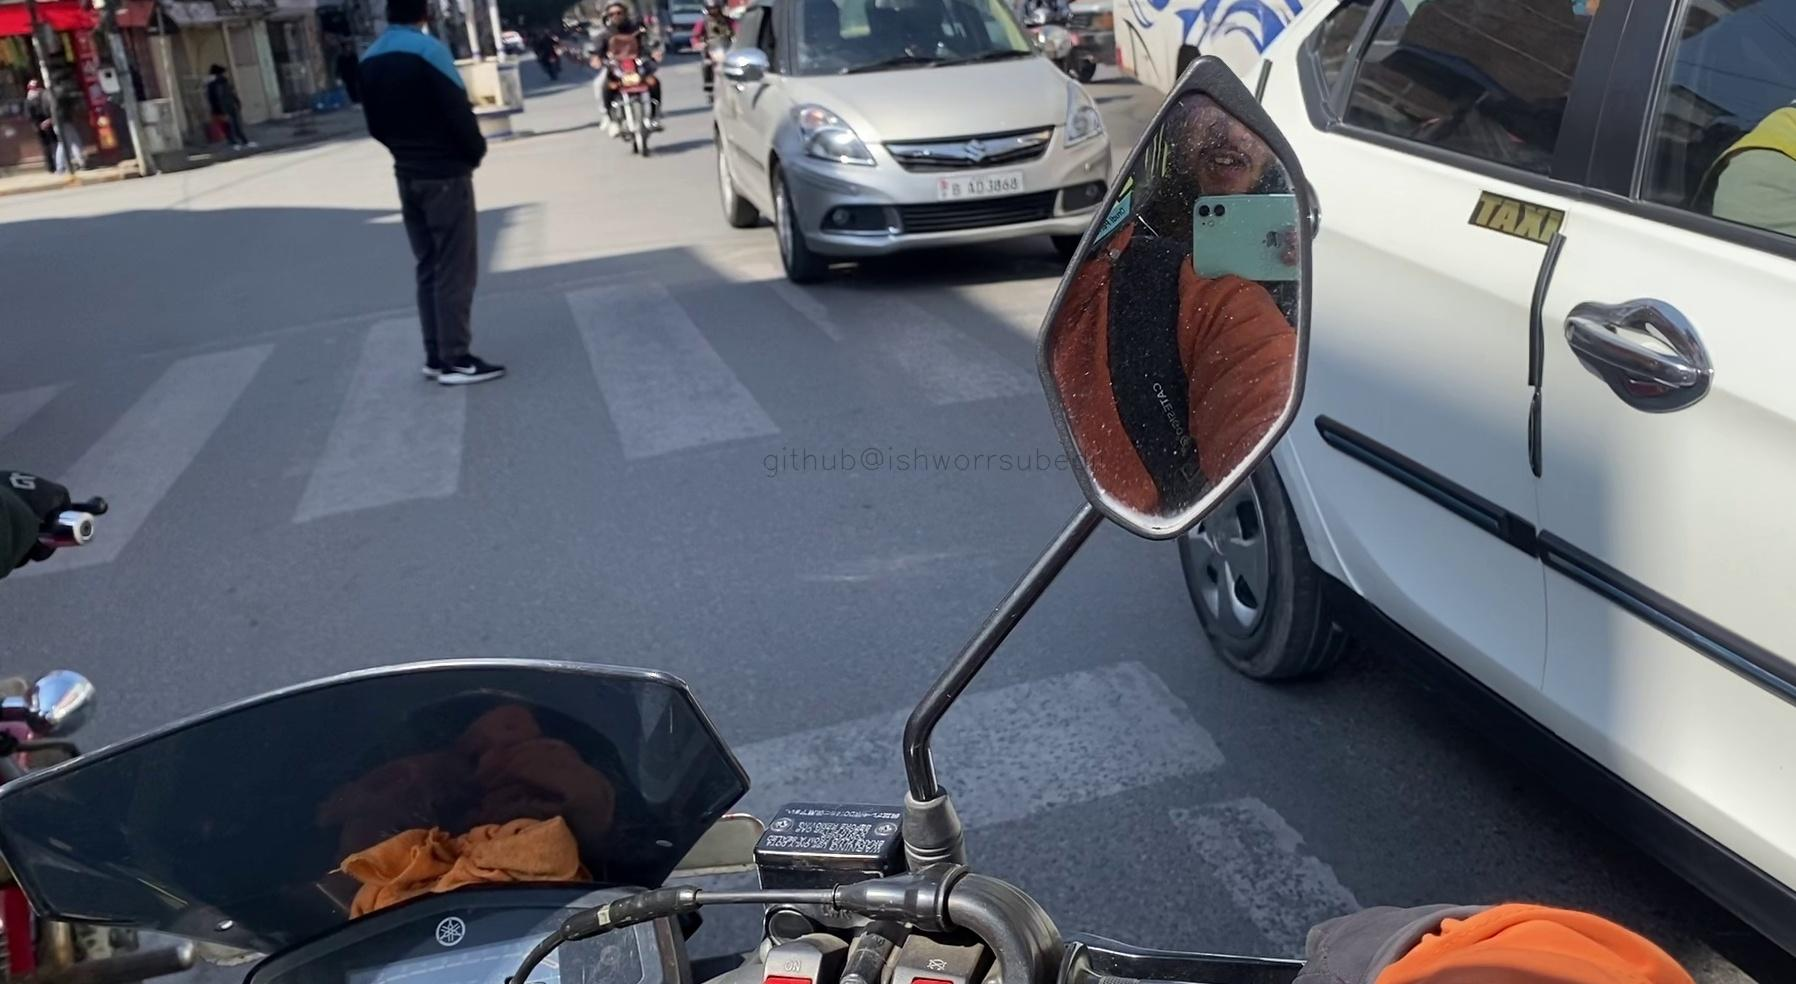license-plate: (938, 165, 1041, 210)
